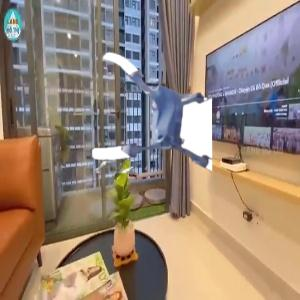drone: (84, 46, 213, 175)
